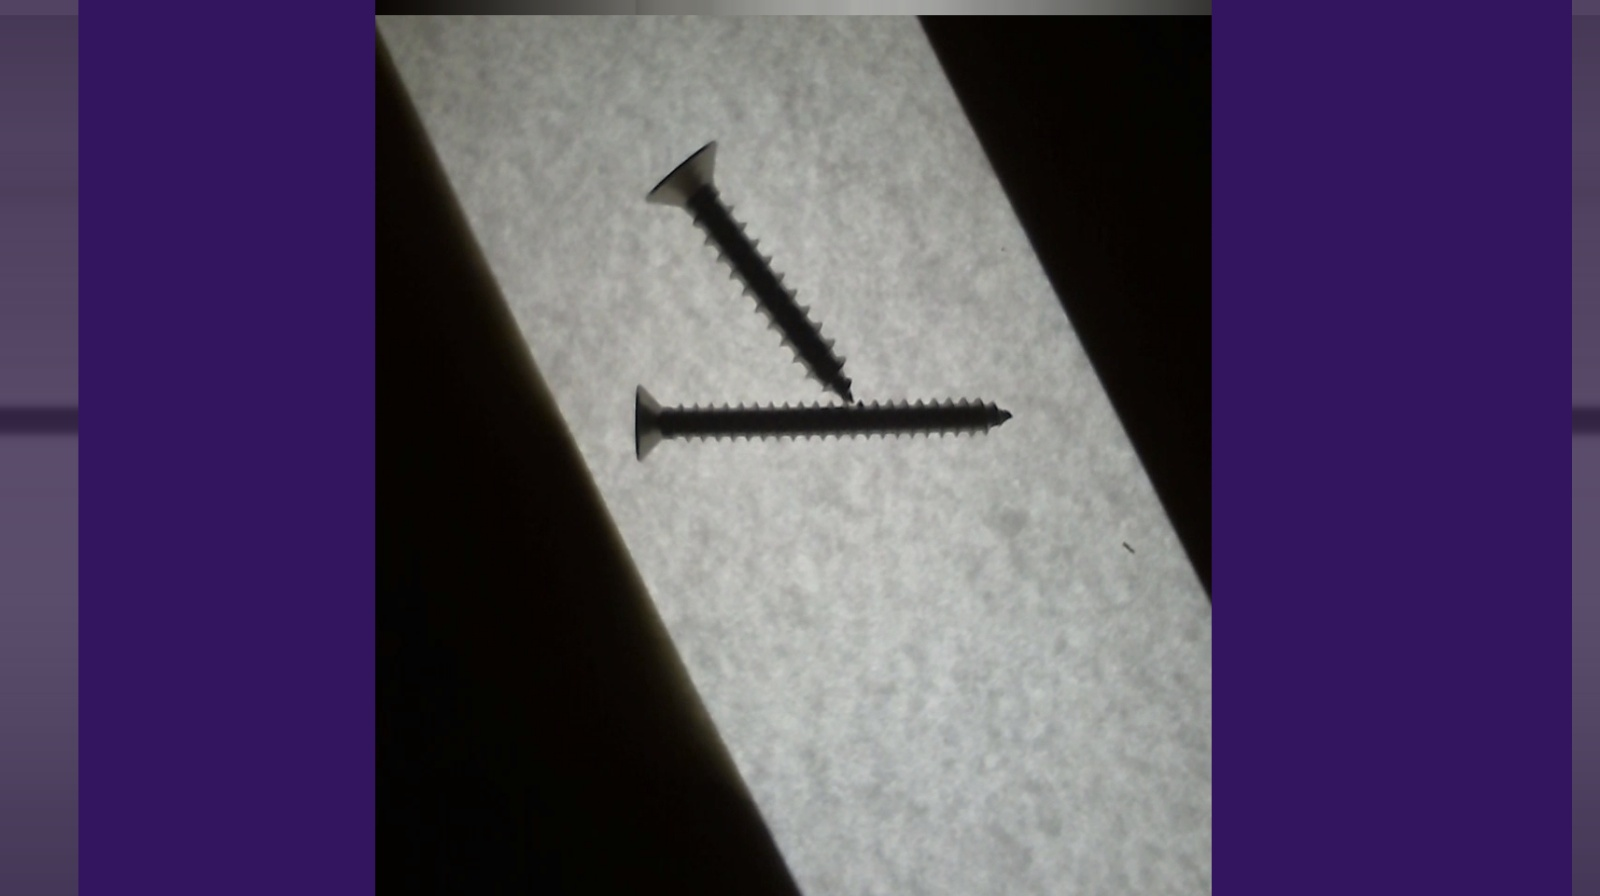S001: (634, 132, 868, 394)
S002: (618, 374, 1020, 465)
